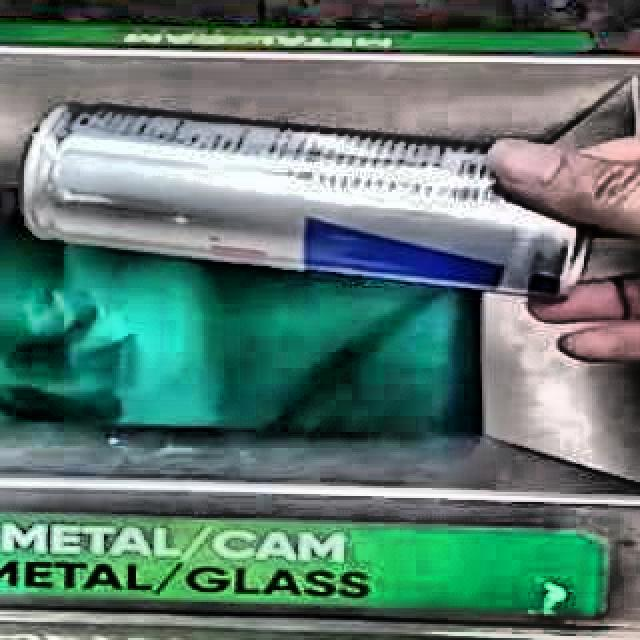metal: (21, 105, 587, 296)
